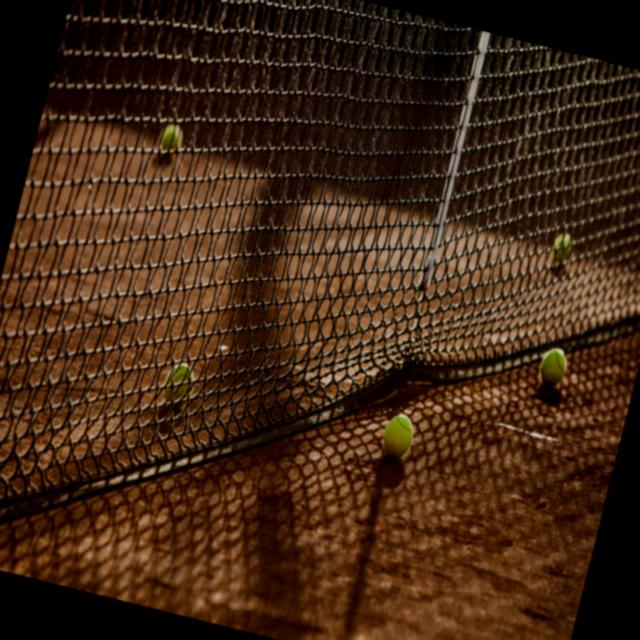Tennis ball: (378, 408, 418, 461), (158, 360, 198, 411), (152, 118, 188, 164), (534, 346, 570, 390), (550, 230, 576, 264)
